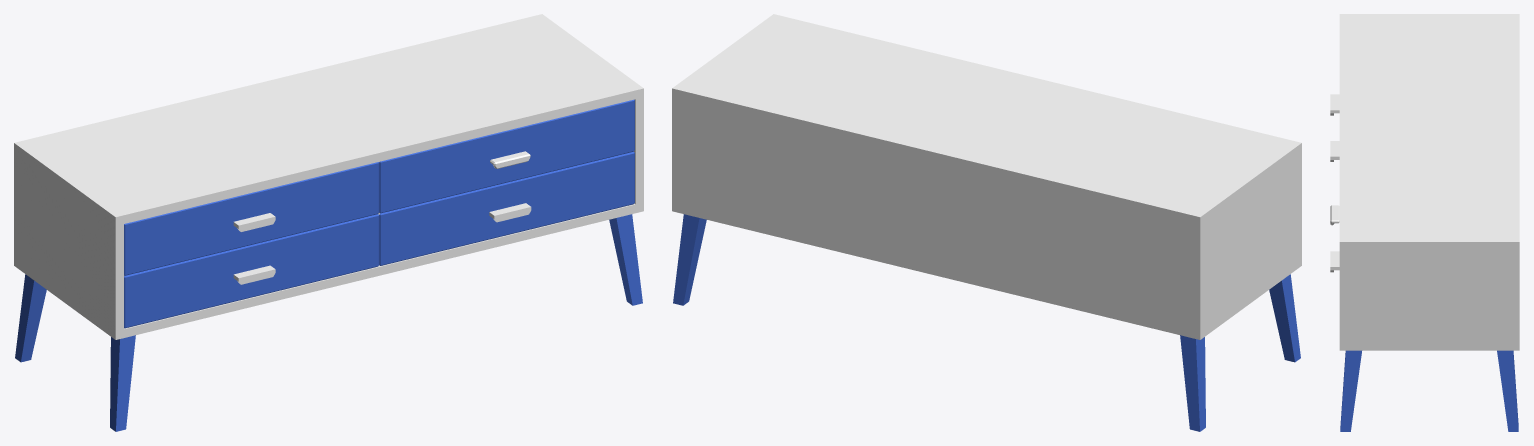
File: Prop_Cabinet_07.fbx
3 renders of one model, left to right at view 1: azimuth 30°, elevation 25°; view 2: azimuth 150°, elevation 25°; view 3: azimuth 270°, elevation 25°, orthographic. The views are drawn at different scales.
Visible parts, largest first — view 1: Prop_Cabinet_07; view 2: Prop_Cabinet_07; view 3: Prop_Cabinet_07.
Boxes of the visible parts, left/top/right/bottom form: Prop_Cabinet_07: left=14, top=14, right=643, bottom=431; Prop_Cabinet_07: left=672, top=14, right=1301, bottom=431; Prop_Cabinet_07: left=1330, top=14, right=1519, bottom=431.
Bounding box in the file's own units: 180 × 70.04 × 63.07.
